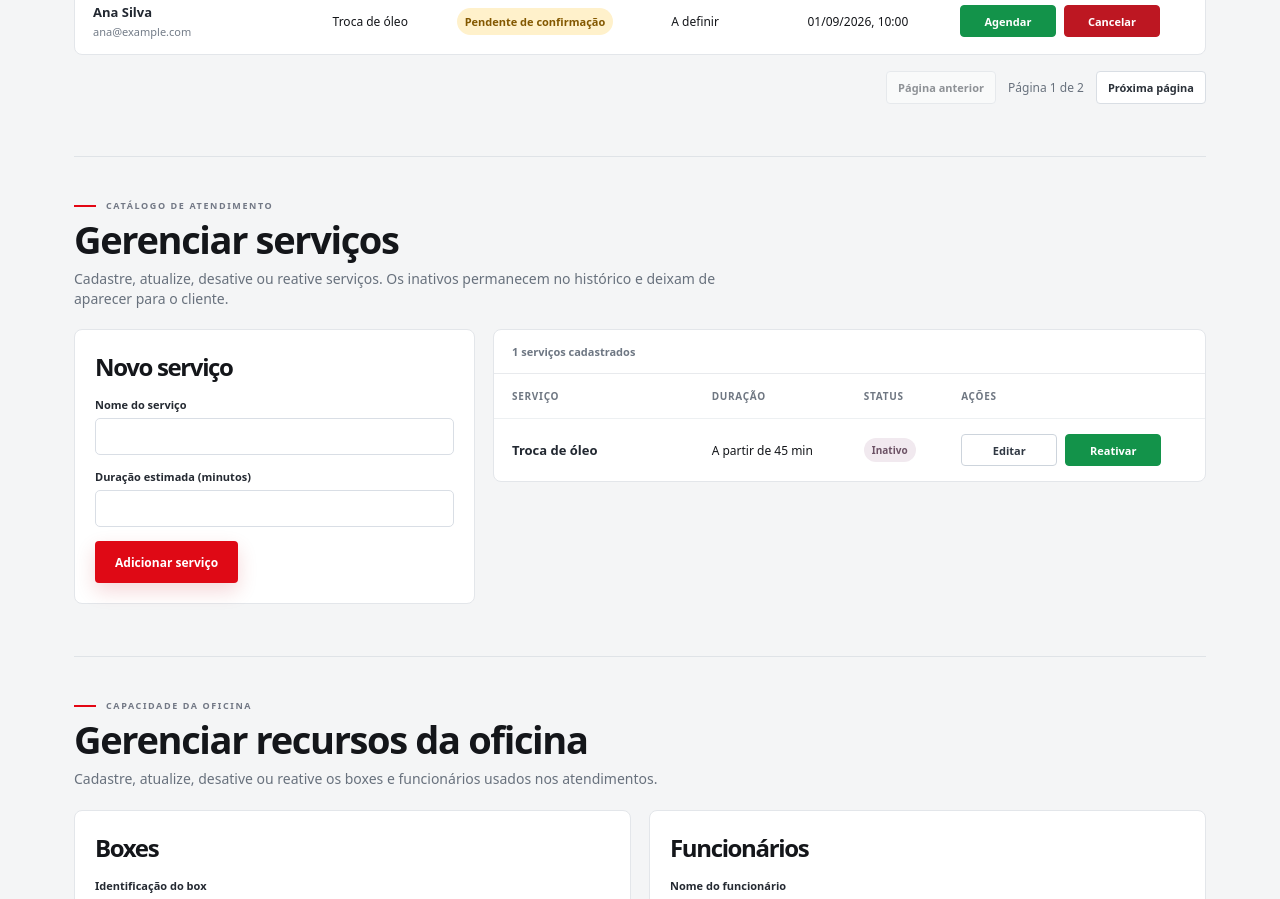
administrator can reactivate inactive services, boxes, and employees
This screenshot has width=1280, height=899.
(page scrolled)
Click the button with aria-label "Reativar serviço Troca de óleo" at (1113, 450), box [1065,434,1161,466]
(page scrolled)
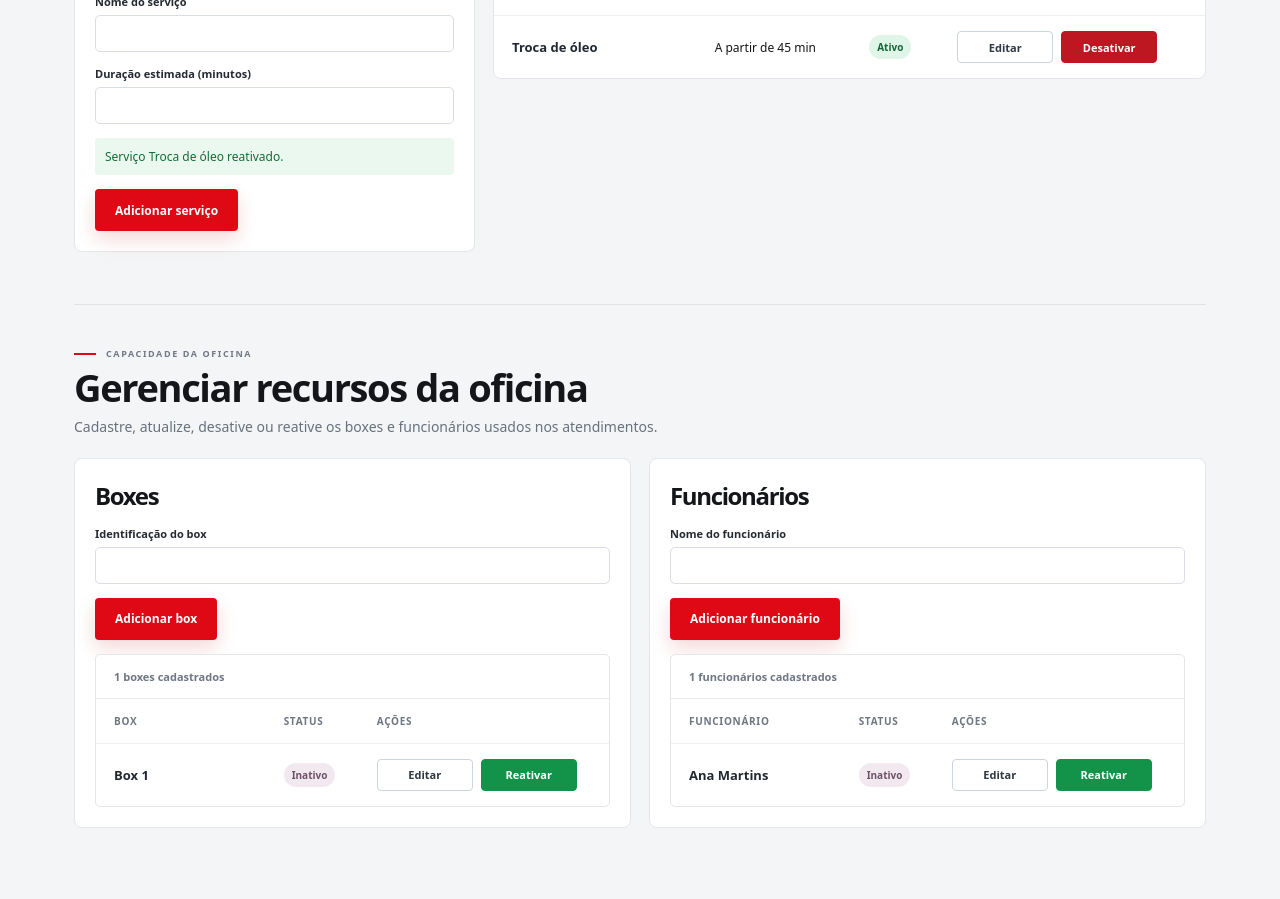
expect the text "Serviço Troca de óleo reativado." is shown: met, box [95,138,454,176]
expect the button with aria-label "Desativar serviço Troca de óleo" is shown: met, box [1061,32,1157,64]
Click the button with aria-label "Reativar box Box 1" at (529, 775), box [481,759,577,791]
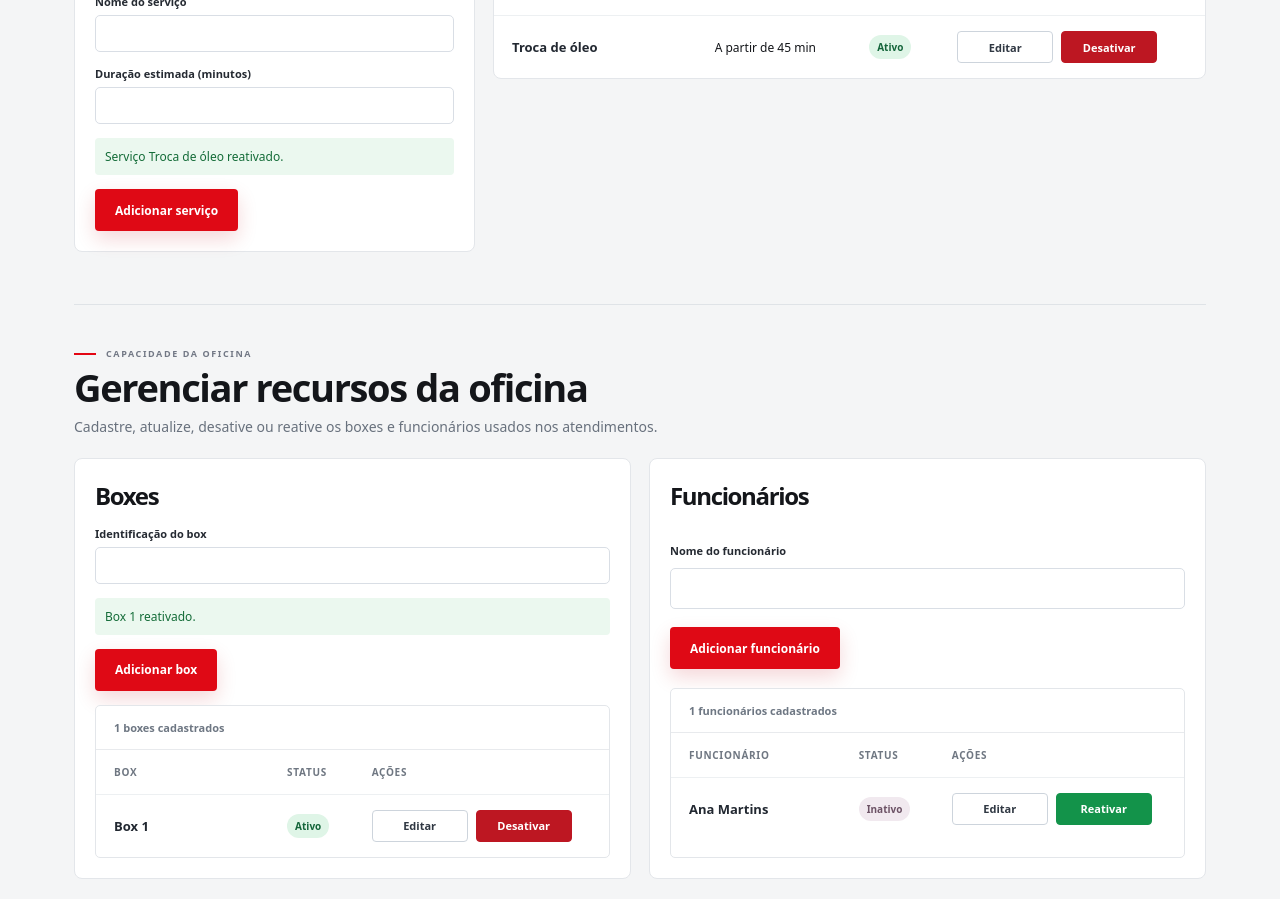
expect the text "Box 1 reativado." is shown: met, box [95,598,610,635]
expect the button with aria-label "Desativar box Box 1" is shown: met, box [476,810,572,842]
Click the button with aria-label "Reativar funcionário Ana Martins" at (1104, 809), box [1056,793,1152,825]
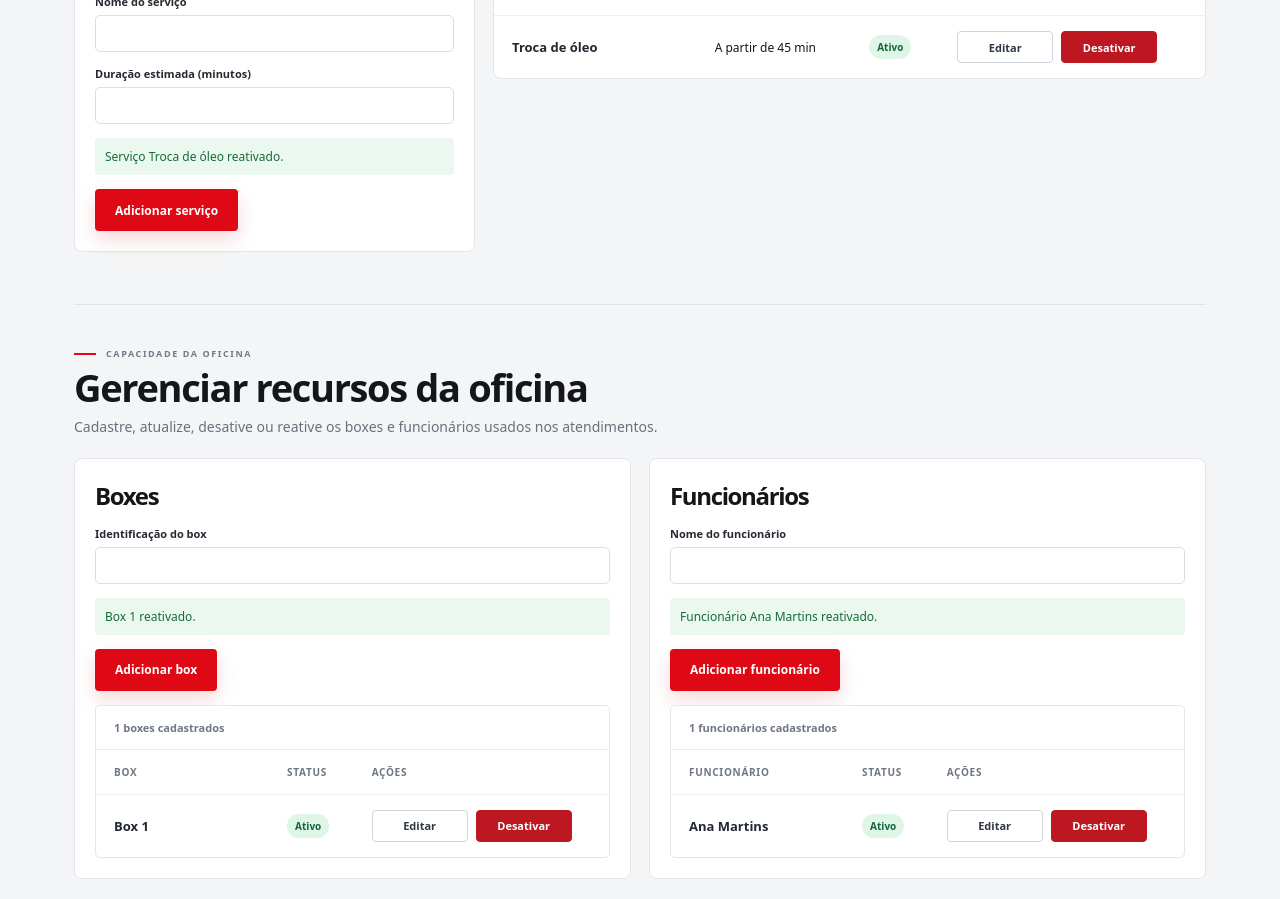
expect the text "Funcionário Ana Martins reativado." is shown: met, box [670,598,1185,635]
expect the button with aria-label "Desativar funcionário Ana Martins" is shown: met, box [1051,810,1147,842]
